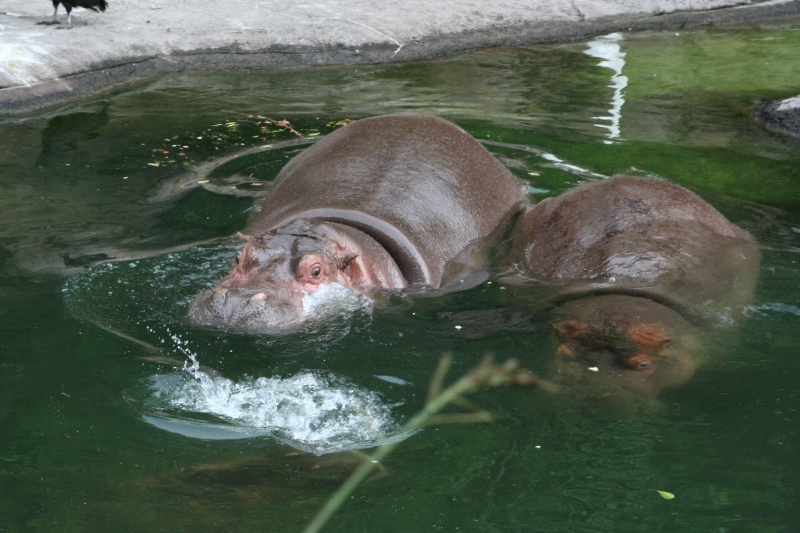hipopotamo: (191, 116, 524, 356), (508, 172, 767, 417)
